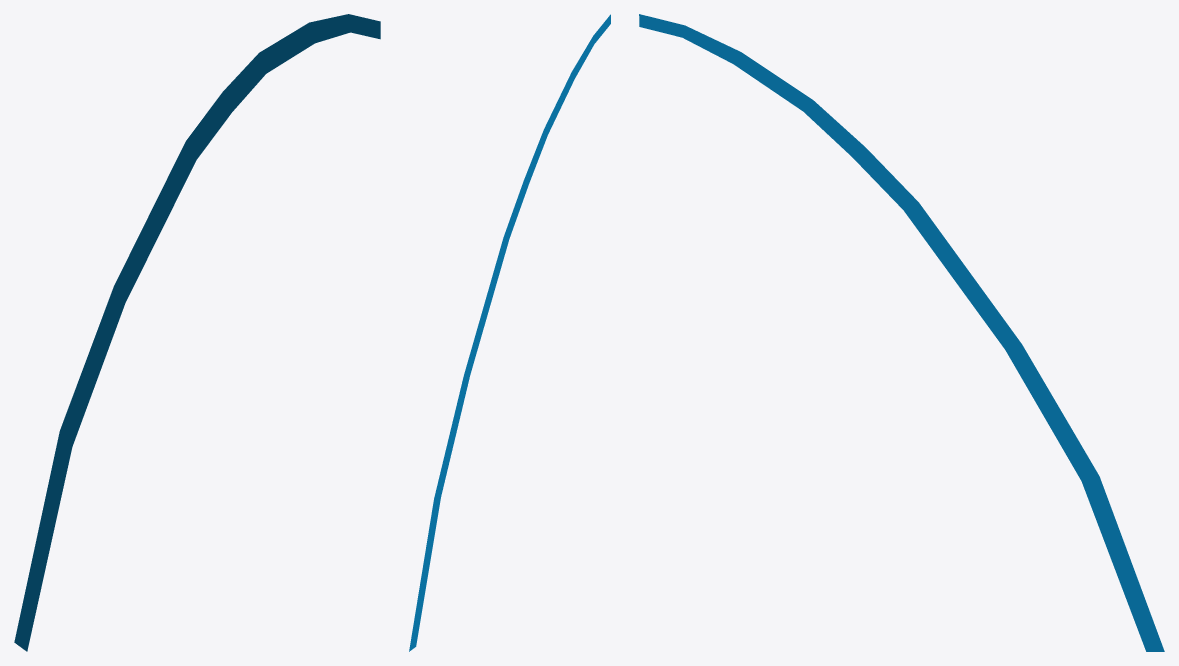
Rendered from curva.fbx.
3 renders of one model, left to right at view 1: azimuth 30°, elevation 25°; view 2: azimuth 150°, elevation 25°; view 3: azimuth 270°, elevation 25°, orthographic. The views are drawn at different scales.
Visible parts, largest first — view 1: curva4; view 2: curva4; view 3: curva4.
Part boxes in pixels (x1,y1,x2,y2): curva4: (14, 14, 380, 651); curva4: (409, 14, 610, 651); curva4: (639, 14, 1164, 651).
Size of the model in its own units: 0 by 19.48 by 14.55.
